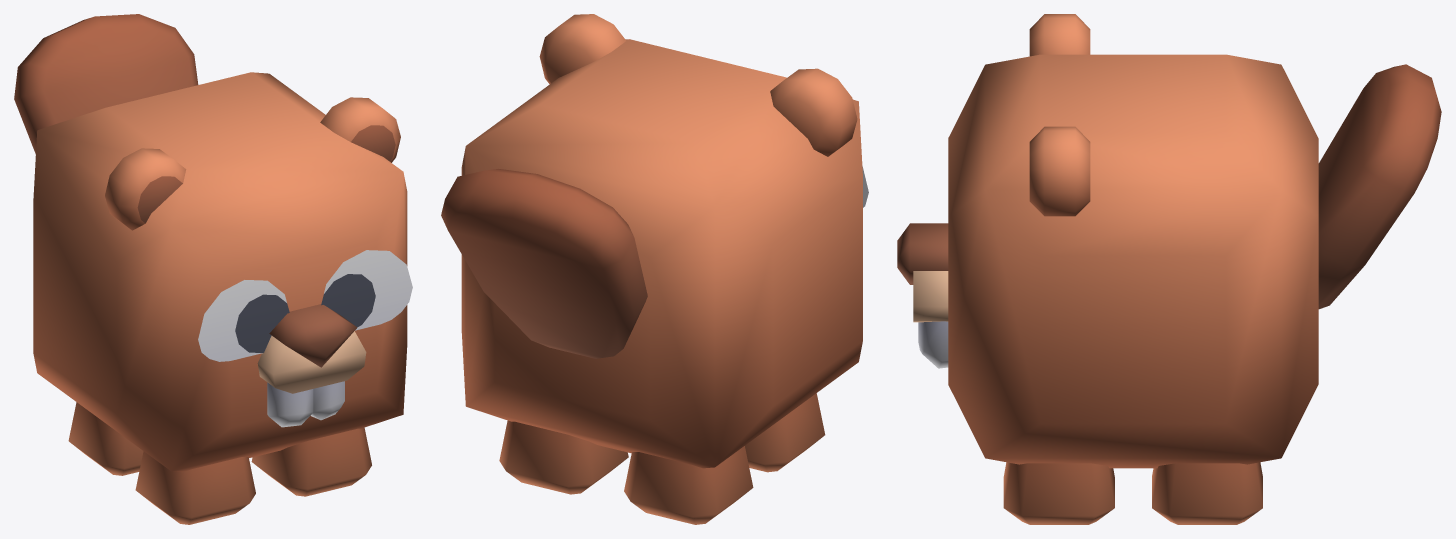
The model's file is animal-beaver.glb.
3 views of the same model, side by side, from view 1: azimuth 30°, elevation 25°; view 2: azimuth 150°, elevation 25°; view 3: azimuth 270°, elevation 25° (orthographic). The views are drawn at different scales.
Visible parts, largest first — view 1: body, tail, leg-front-right, leg-front-left, leg-back-right; view 2: body, tail, leg-back-right, leg-back-left, leg-front-right; view 3: body, tail, leg-front-left, leg-back-left.
Boxes of the visible parts, x1,y1,x2,y2 form: body: [33, 72, 412, 472]; tail: [14, 14, 198, 154]; leg-front-right: [135, 451, 255, 524]; leg-front-left: [251, 427, 371, 496]; leg-back-right: [68, 402, 143, 475]; body: [461, 14, 868, 468]; tail: [441, 169, 647, 358]; leg-back-right: [624, 446, 753, 524]; leg-back-left: [499, 420, 628, 494]; leg-front-right: [745, 393, 825, 472]; body: [897, 14, 1318, 468]; tail: [1318, 64, 1441, 309]; leg-front-left: [1003, 462, 1114, 524]; leg-back-left: [1152, 462, 1262, 524].
Bounding box in the file's own units: 1.25 × 1.5 × 1.84.
1 material, 1 textured.
